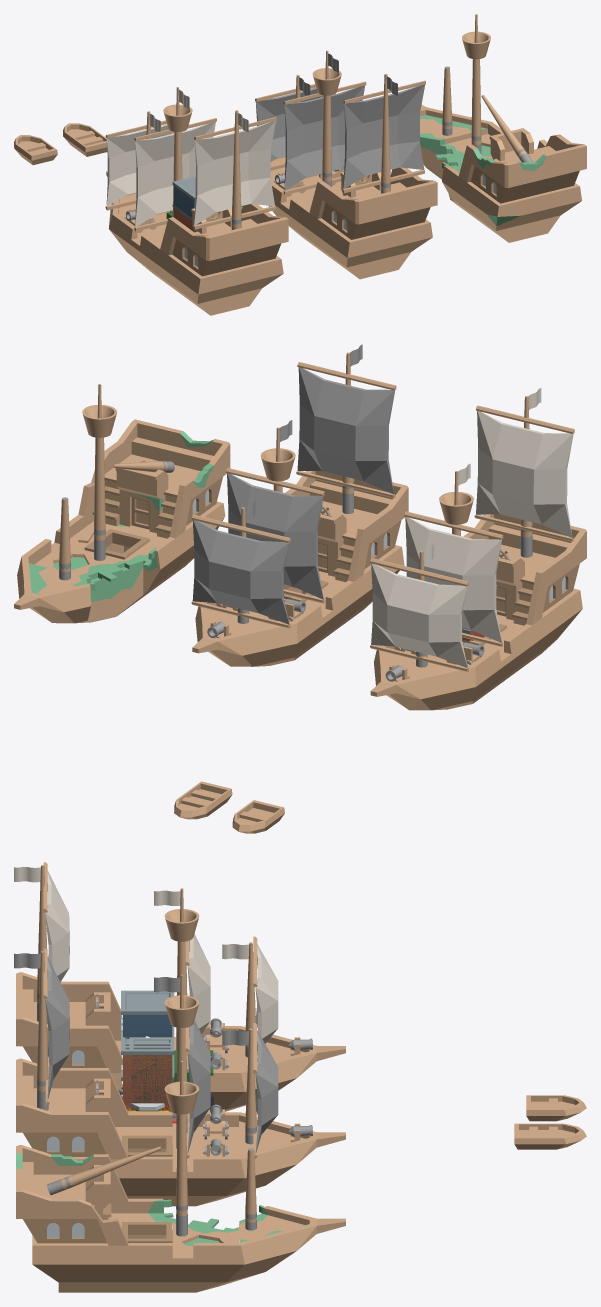
Rendered from harbor_pack.glb.
3 renders of one model, top to bottom at view 1: azimuth 30°, elevation 25°; view 2: azimuth 150°, elevation 25°; view 3: azimuth 270°, elevation 25°, orthographic. The views are drawn at different scales.
Visible parts, largest first — view 1: ship_wreck_8angles, ship_light_8angles, ship_dark_8angles, sail_back 1, sail_back, sail_middle, sail_middle 1, sail_front 1, sail_front, boat_large_8angles, boat_small_8angles, building_H_withoutBase; view 2: ship_wreck_8angles, ship_light_8angles, ship_dark_8angles, sail_back, sail_back 1, sail_front 1, sail_front, sail_middle 1, sail_middle, boat_large_8angles, boat_small_8angles; view 3: ship_wreck_8angles, ship_dark_8angles, ship_light_8angles, building_E_withoutBase, sail_back, building_H_withoutBase, sail_front, sail_middle, sail_back 1, sail_front 1, sail_middle 1, boat_large_8angles (+2 smaller).
Boxes of the visible parts, x1,y1,x2,y2 form: ship_wreck_8angles: (420, 14, 586, 242); ship_light_8angles: (106, 87, 288, 315); ship_dark_8angles: (268, 50, 437, 279); sail_back 1: (193, 117, 276, 229); sail_back: (342, 80, 425, 193); sail_middle: (283, 81, 366, 194); sail_middle 1: (134, 118, 216, 231); sail_front 1: (105, 120, 174, 210); sail_front: (255, 84, 323, 170); boat_large_8angles: (63, 123, 107, 156); boat_small_8angles: (14, 135, 57, 165); building_H_withoutBase: (172, 176, 195, 217); ship_wreck_8angles: (14, 384, 230, 623); ship_light_8angles: (370, 388, 586, 710); ship_dark_8angles: (192, 344, 408, 666); sail_back: (296, 362, 396, 498); sail_back 1: (474, 405, 574, 541); sail_front 1: (370, 558, 468, 671); sail_front: (191, 514, 290, 628); sail_middle 1: (404, 511, 503, 646); sail_middle: (226, 468, 324, 603); boat_large_8angles: (174, 781, 232, 819); boat_small_8angles: (232, 800, 284, 833); ship_wreck_8angles: (16, 1061, 345, 1292); ship_dark_8angles: (14, 951, 345, 1206); ship_light_8angles: (14, 865, 345, 1112); building_E_withoutBase: (121, 1017, 174, 1112); sail_back: (43, 948, 69, 1105); building_H_withoutBase: (121, 990, 174, 1110); sail_front: (253, 1023, 278, 1158); sail_middle: (185, 1020, 210, 1158); sail_back 1: (43, 862, 69, 1019); sail_front 1: (253, 936, 278, 1061); sail_middle 1: (185, 934, 210, 1072); boat_large_8angles: (514, 1123, 586, 1149).
Size of the model in its own units: 12.82 by 6.69 by 13.98.
Materials: 31 (2 with a texture image).
